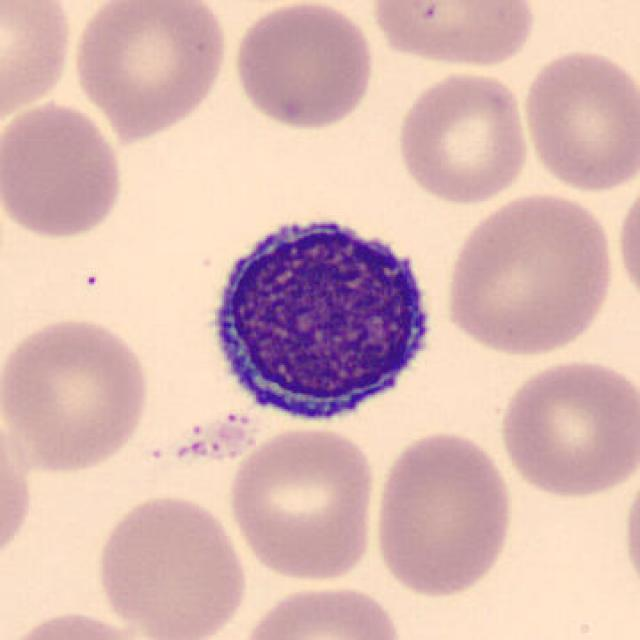Lymphocyte: (192, 198, 448, 436)
RBC: (439, 188, 619, 360), (368, 427, 516, 601), (0, 312, 155, 476), (224, 423, 380, 584), (90, 488, 250, 640), (68, 0, 231, 138), (494, 354, 638, 501), (229, 0, 379, 134), (393, 67, 533, 208), (0, 97, 128, 242), (518, 46, 638, 196), (368, 0, 540, 71), (235, 578, 407, 640), (0, 0, 76, 127), (0, 411, 36, 576), (0, 606, 160, 640), (613, 173, 640, 314), (618, 456, 640, 603)
